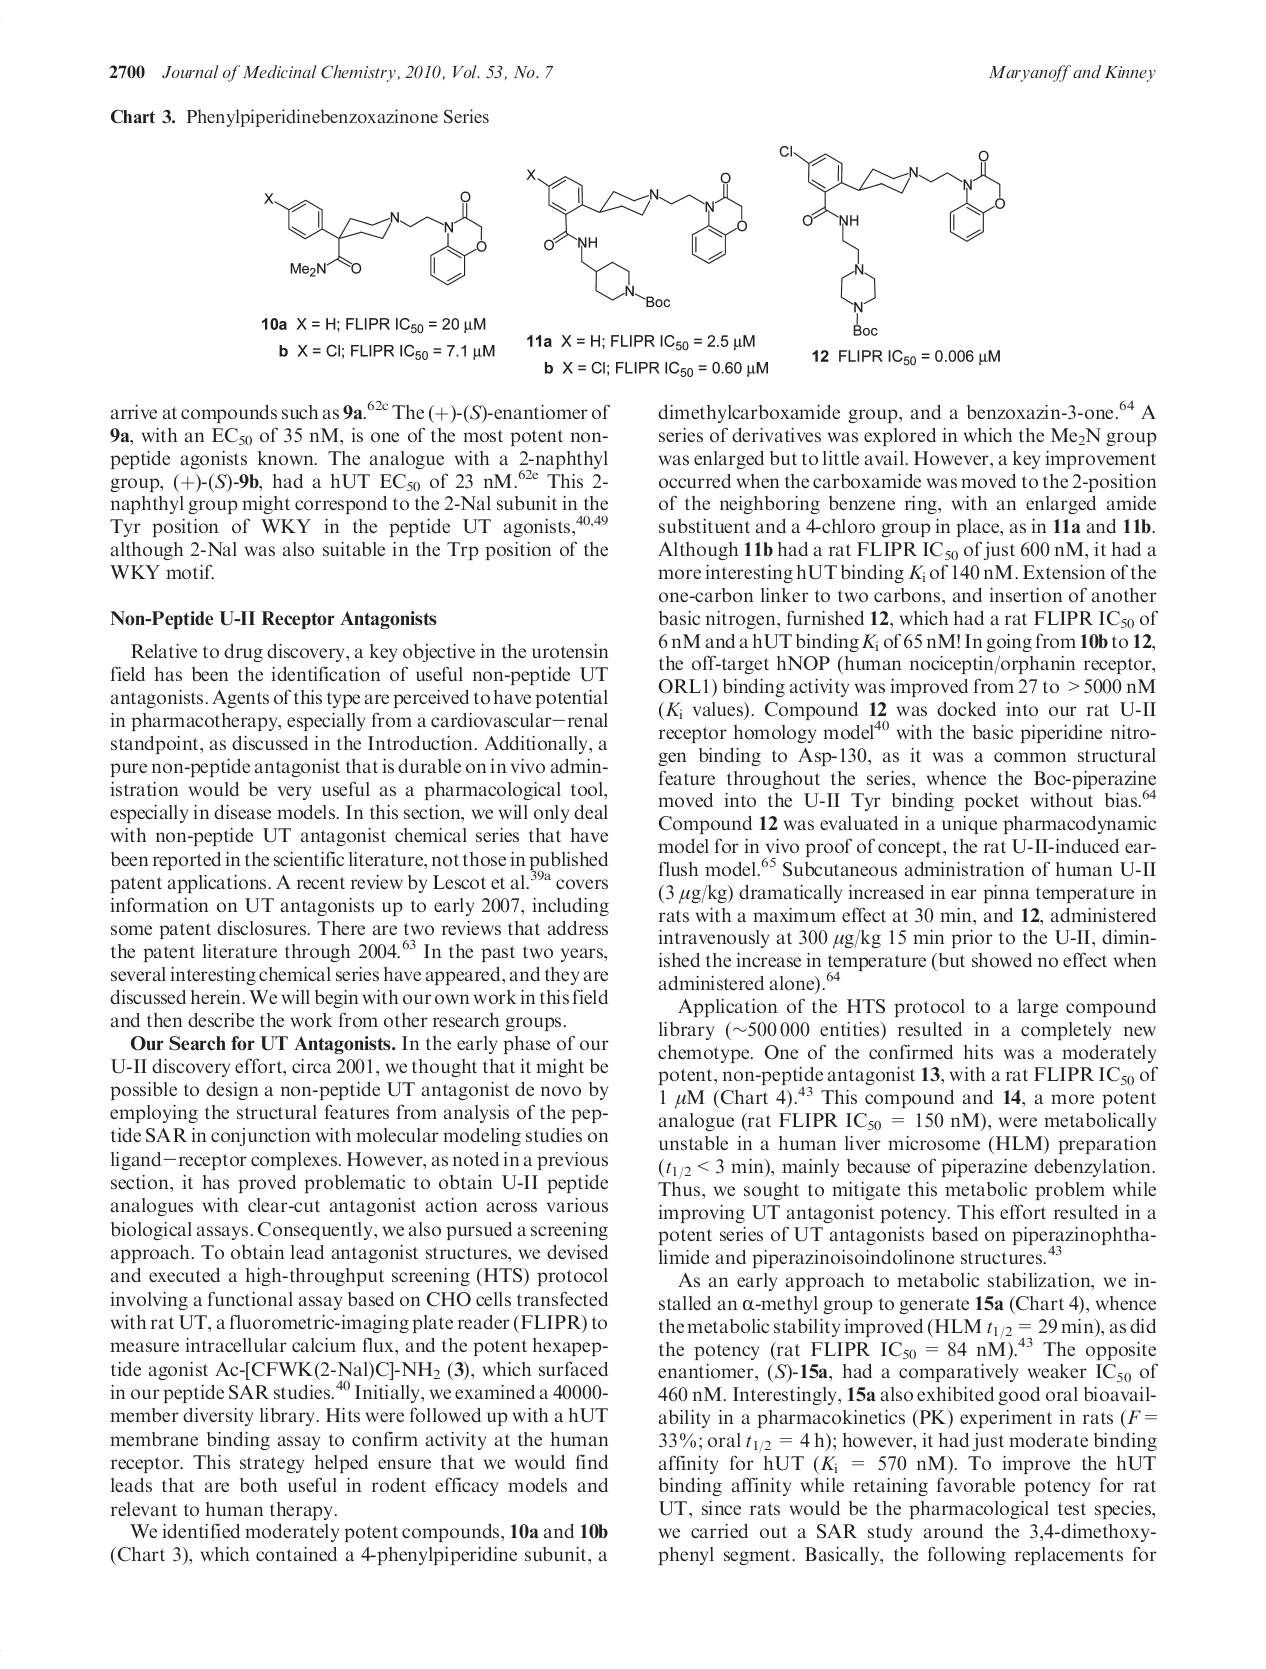exist_molecular: (778, 144, 1005, 338), (521, 165, 747, 310), (262, 189, 487, 287)
